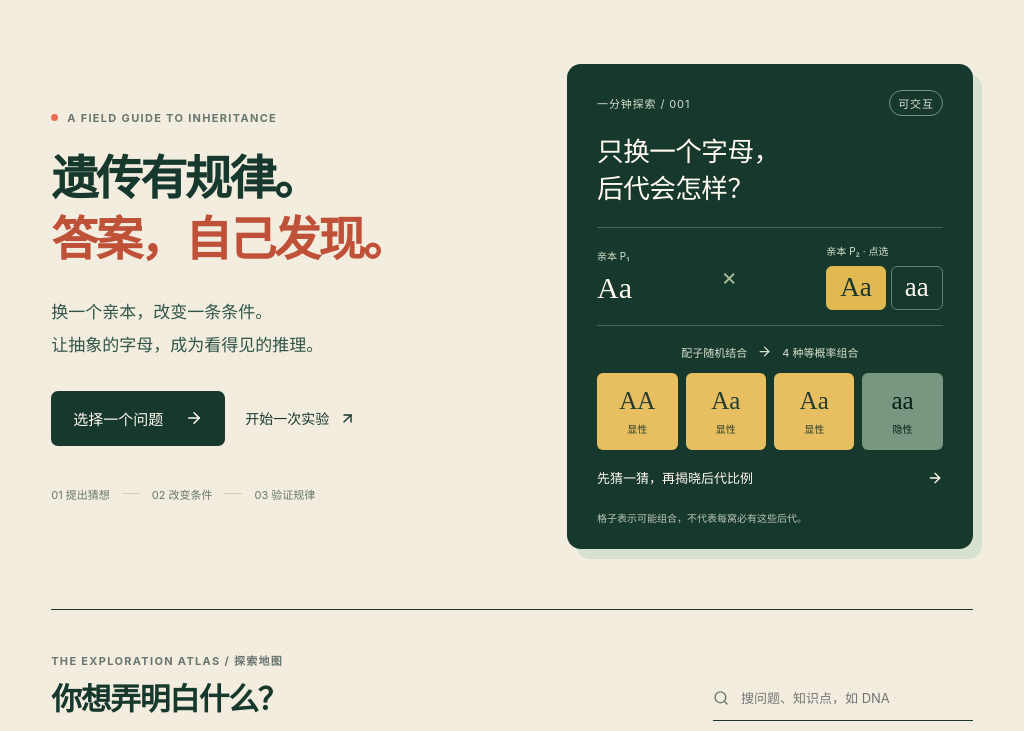
Test case: lets the visitor change a parent and reveal the live offspring ratio
Click the button with aria-label "把亲本 P₂ 改为 aa": (917, 288) [891,266,943,310]
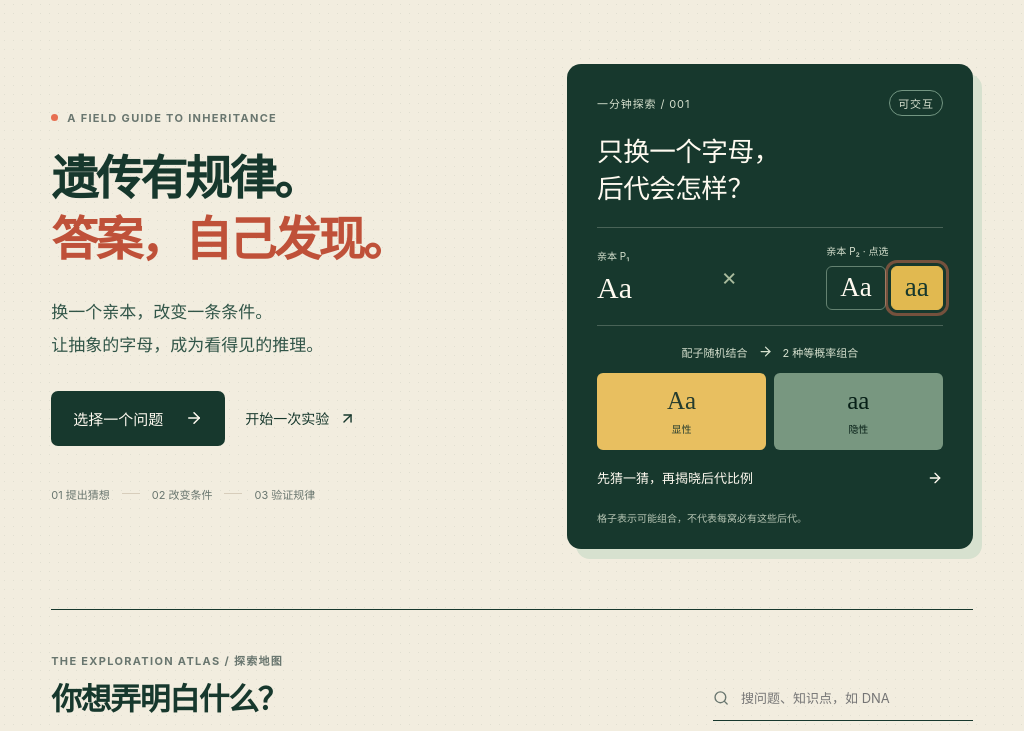
Click the button "先猜一猜，再揭晓后代比例": (675, 478) [597,450,943,496]
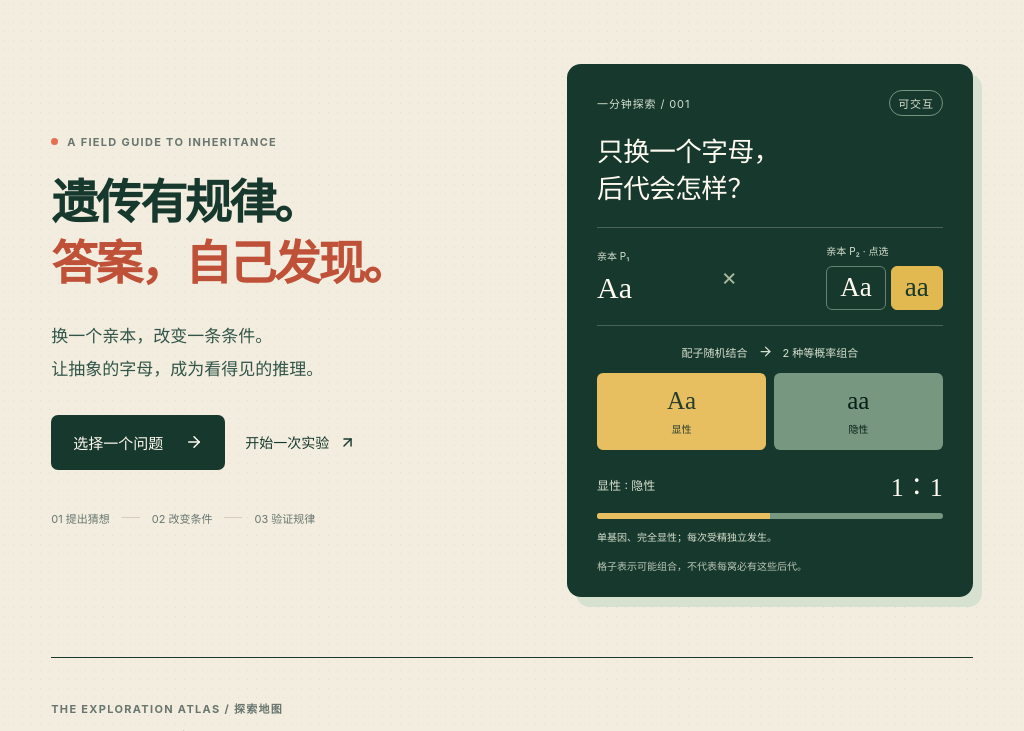
Check: the text with test id "preview-ratio" reads "1∶1", box [891,472,943,502]
Click the button with aria-label "把亲本 P₂ 改为 Aa": (856, 288) [826,266,886,310]
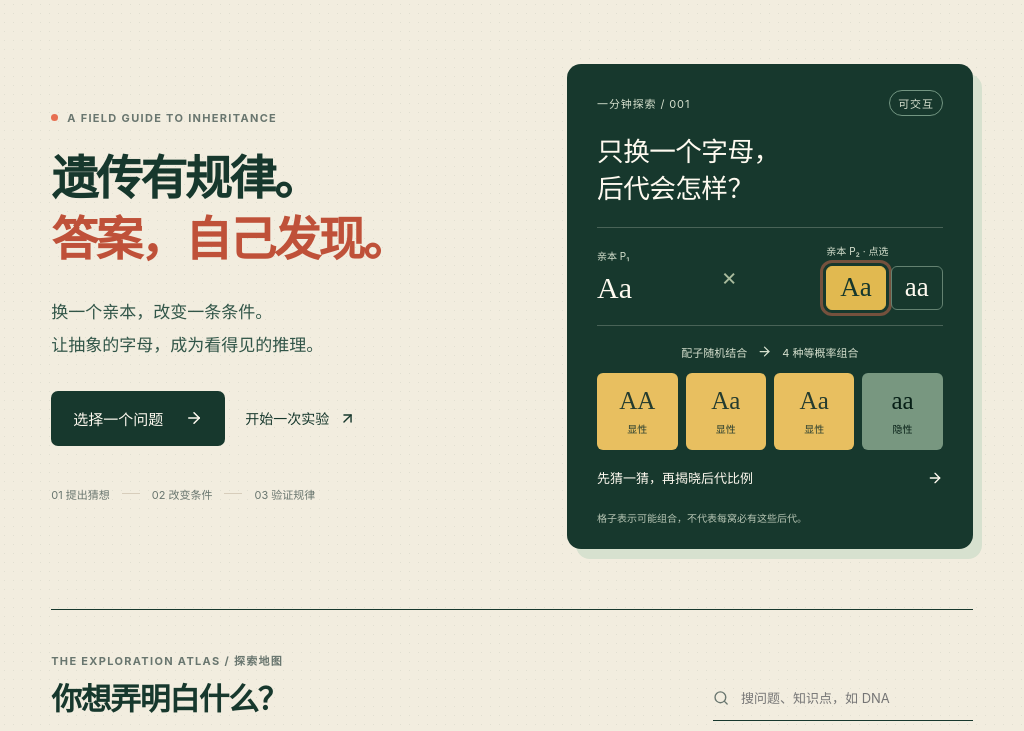
Check: the text with test id "preview-ratio" is gone
